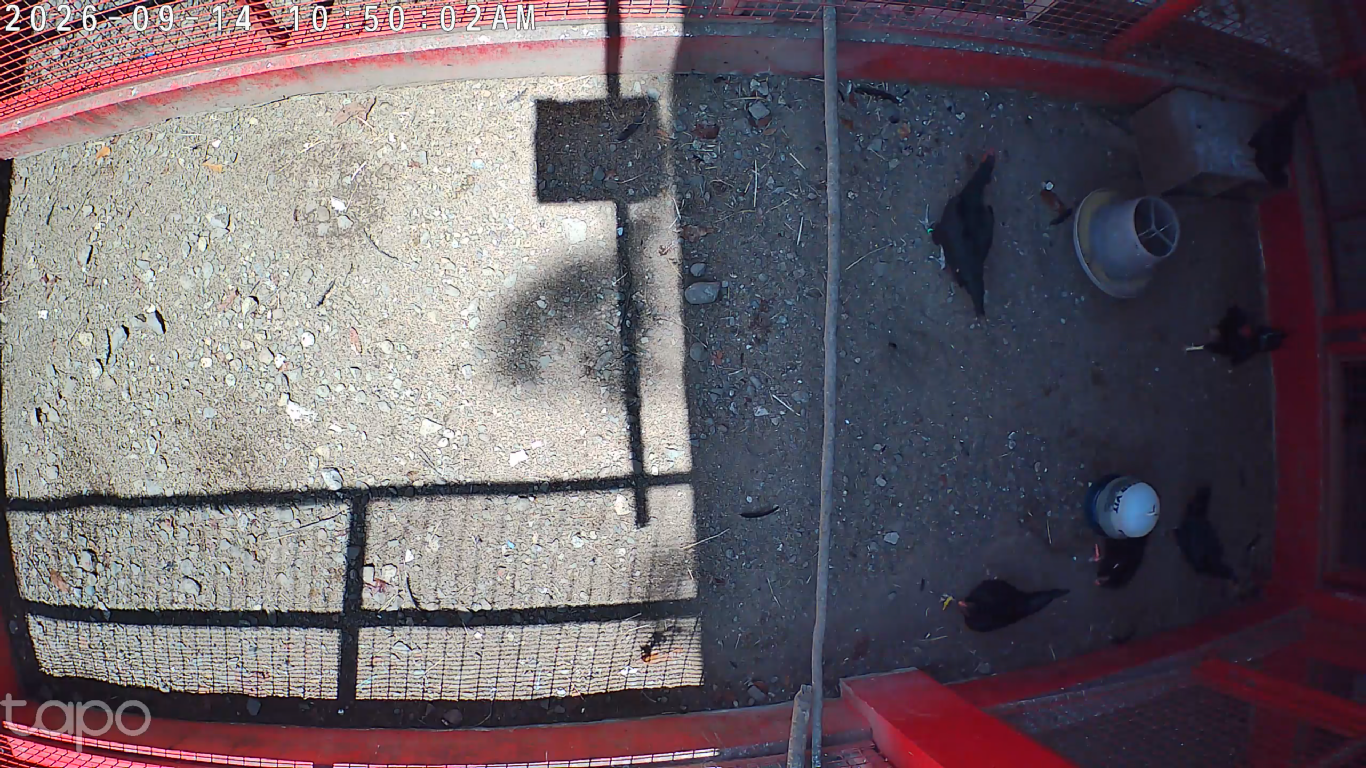Chicken: (914, 146, 1000, 323), (1162, 481, 1244, 591), (935, 576, 1074, 637), (1233, 90, 1310, 194)
Drinker: (1085, 474, 1161, 537)
Feeder: (1073, 189, 1182, 300)
Leg_Band_Green: (927, 227, 935, 234)
Leg_Band_Pink: (1094, 542, 1100, 563)
Leg_Band_Yellow: (941, 594, 955, 612)
